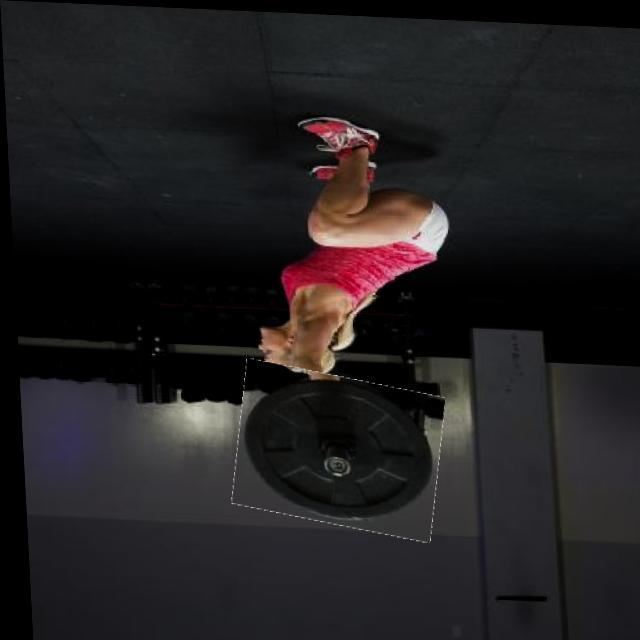barbell: (227, 363, 442, 533)
